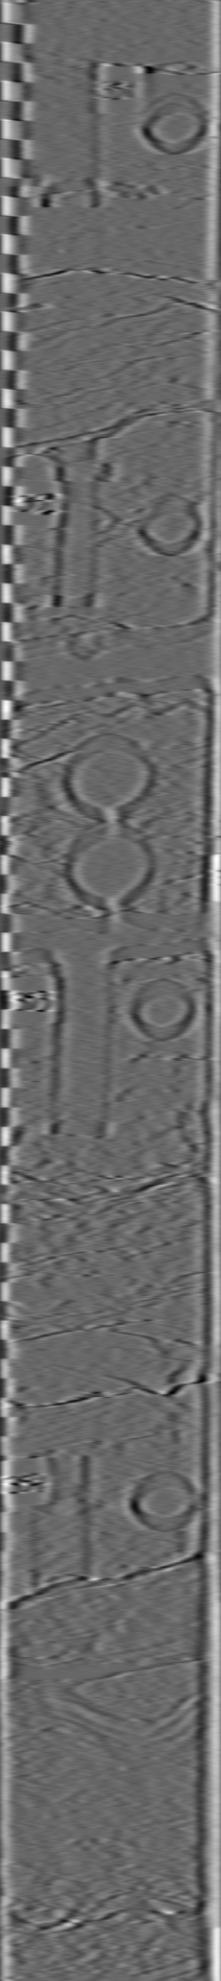hplug: (131, 486, 207, 562), (122, 1466, 202, 1536), (125, 975, 200, 1046), (136, 88, 211, 158)
scal: (58, 730, 160, 826), (56, 826, 158, 920)
vplug: (43, 961, 115, 1146), (35, 52, 105, 208), (45, 438, 105, 622), (23, 1454, 93, 1594)
